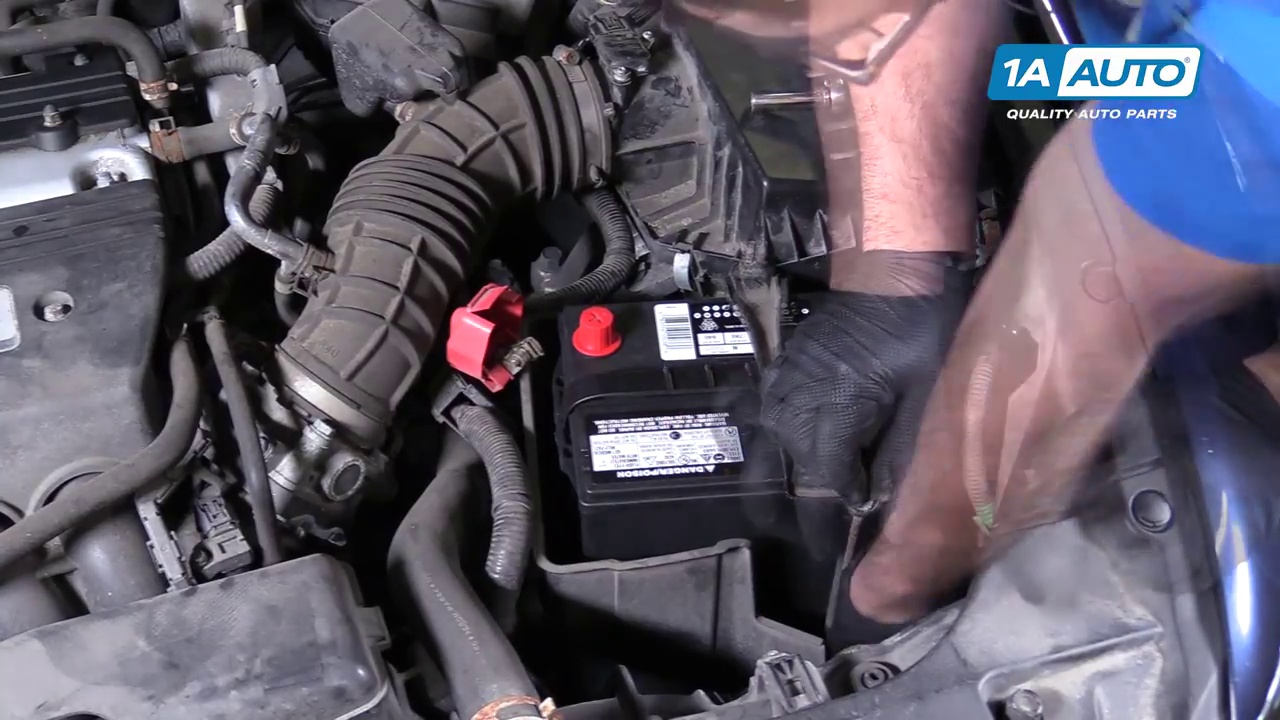battery: (557, 298, 798, 499)
pos_disconnected: (418, 273, 649, 409)
